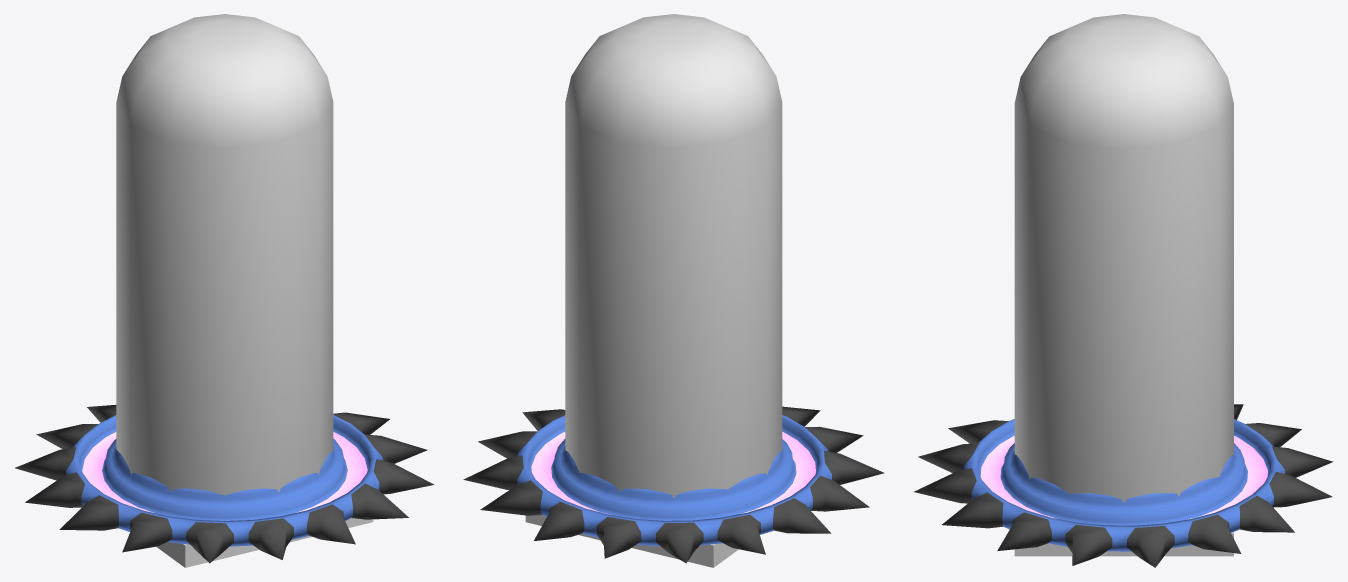
Rendered from Base Game Models.fbx.
The picture shows the model from 3 angles, left to right: view 1: azimuth 30°, elevation 25°; view 2: azimuth 150°, elevation 25°; view 3: azimuth 270°, elevation 25°; orthographic projection.
Parts seen in each view (by area): view 1: Cylinder, saw, Platform; view 2: Cylinder, saw, Platform; view 3: Cylinder, saw, Platform.
Boxes of the visible parts, x1=… form: Cylinder: x1=116, y1=14, x2=333, y2=496; saw: x1=15, y1=404, x2=434, y2=563; Platform: x1=156, y1=518, x2=373, y2=567; Cylinder: x1=565, y1=14, x2=782, y2=497; saw: x1=463, y1=406, x2=884, y2=563; Platform: x1=525, y1=515, x2=738, y2=567; Cylinder: x1=1014, y1=14, x2=1233, y2=502; saw: x1=914, y1=404, x2=1333, y2=567; Platform: x1=1014, y1=532, x2=1233, y2=556.
Size of the model in its own units: 385 by 492 by 384.
